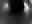person: (24, 1, 32, 17), (3, 2, 11, 14)
